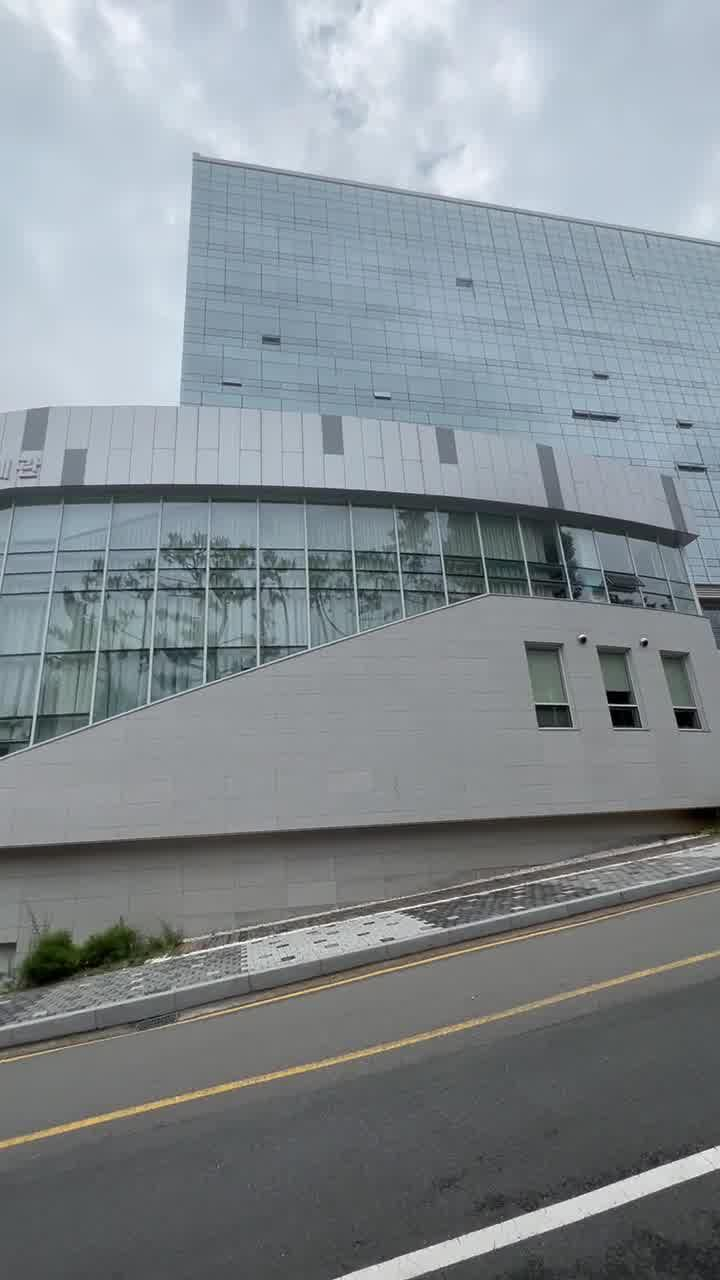building: (106, 140, 720, 830)
